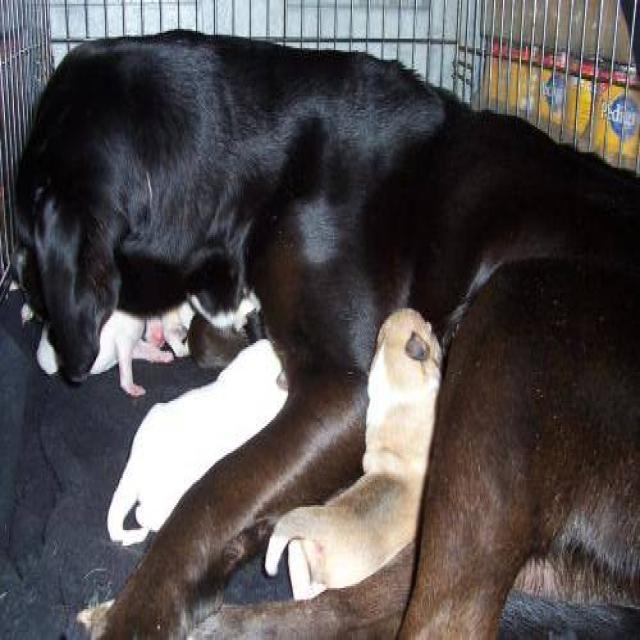dog: (10, 27, 638, 636)
